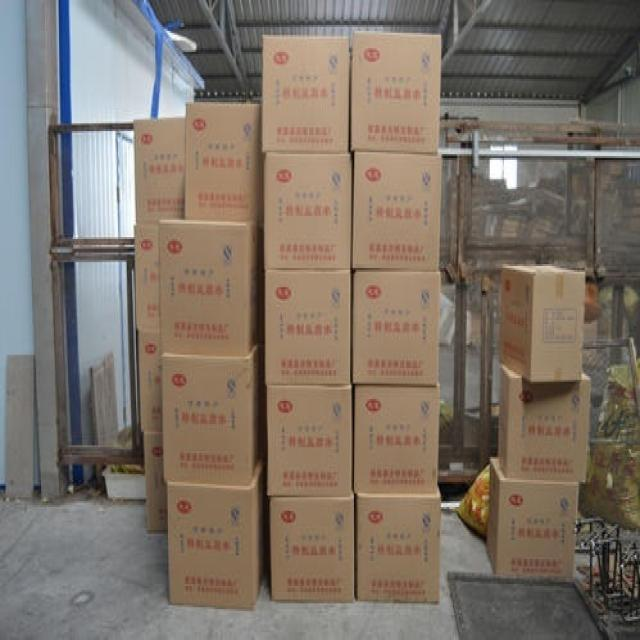box: (168, 461, 265, 609), (163, 343, 260, 484), (159, 220, 258, 355), (498, 364, 593, 480), (486, 457, 577, 578), (351, 33, 442, 152), (353, 150, 442, 270), (262, 35, 350, 150), (264, 268, 351, 384), (353, 270, 441, 384), (357, 484, 441, 603), (499, 266, 585, 382), (264, 152, 351, 266), (269, 490, 354, 601), (186, 102, 264, 220), (355, 386, 441, 493), (267, 386, 351, 495), (133, 116, 185, 224), (135, 226, 160, 330), (139, 330, 163, 434), (144, 436, 167, 530)
